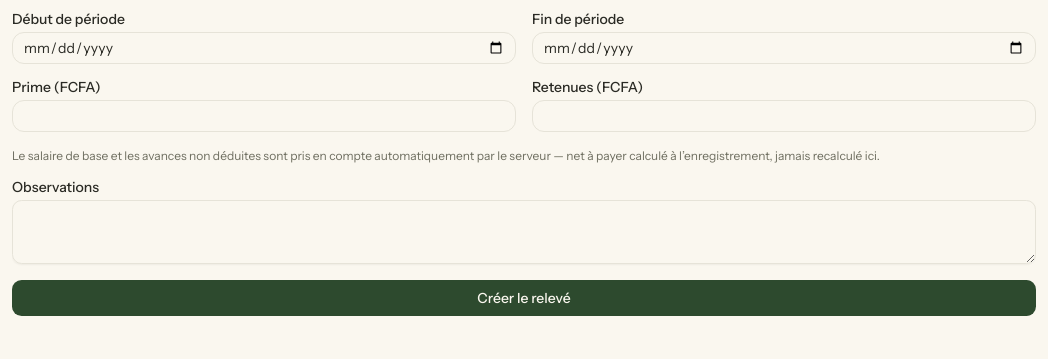
Test: PayrollForm (création — pas de relevé fourni) › affiche des erreurs de validation si les dates de période sont vides
Step 1. Click the button "Créer le relevé" → (524, 298), box [12,280,1036,316]
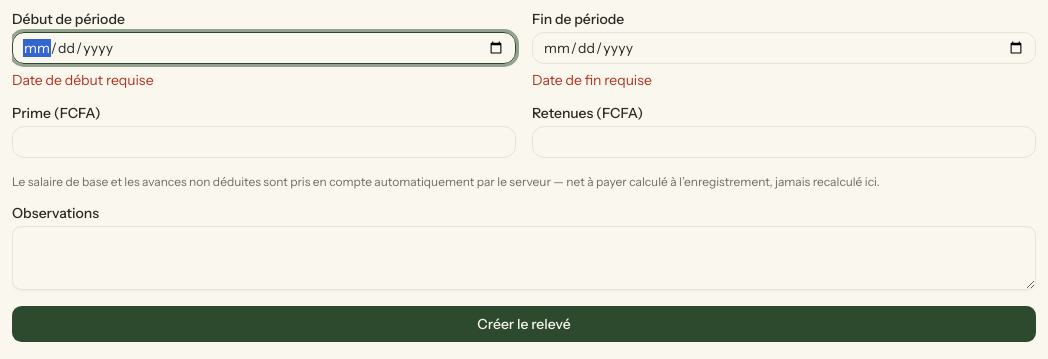
Result: the text "Date de début requise" is shown at [12,71,154,89]
Result: the text "Date de fin requise" is shown at [532,71,652,89]
